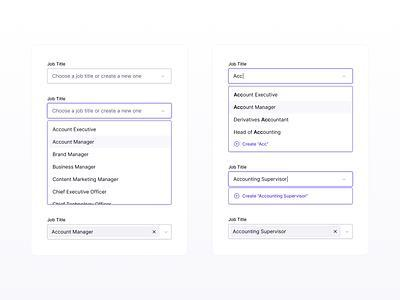dropdown: (228, 68, 355, 86), (228, 171, 354, 189), (228, 224, 355, 241), (48, 69, 174, 86), (47, 103, 173, 120), (48, 224, 174, 241)
label: (48, 62, 68, 68), (48, 217, 67, 223), (227, 62, 249, 67), (229, 218, 249, 223), (229, 166, 248, 171), (46, 98, 68, 102)
